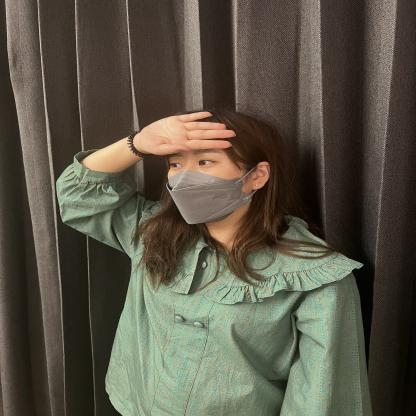Sick: (39, 90, 415, 218)
